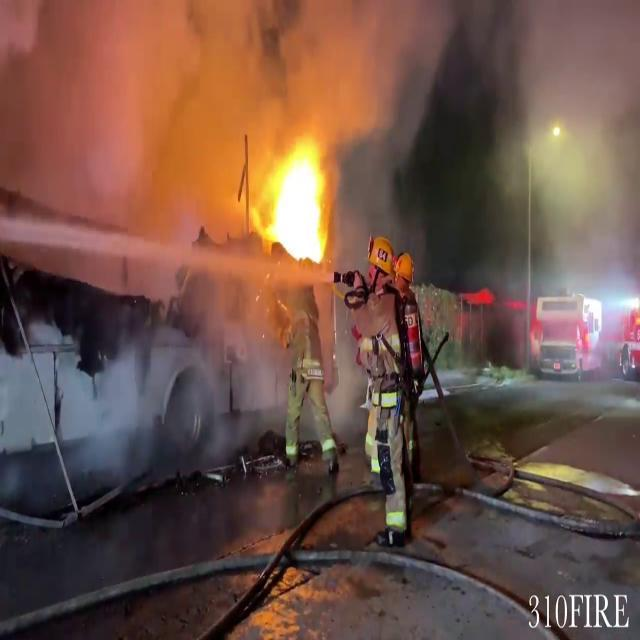Fire: (256, 202, 324, 278)
Smoke: (4, 0, 462, 313), (496, 0, 640, 354)
